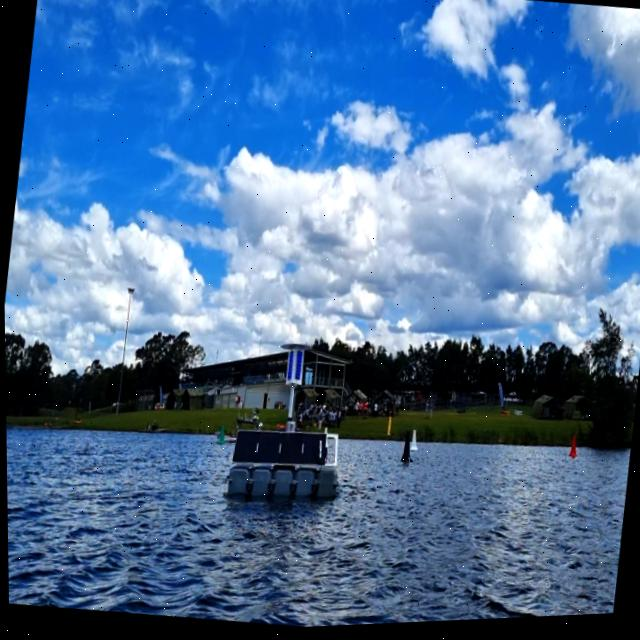led: (284, 350, 303, 387), (290, 351, 303, 386), (284, 351, 294, 385)
